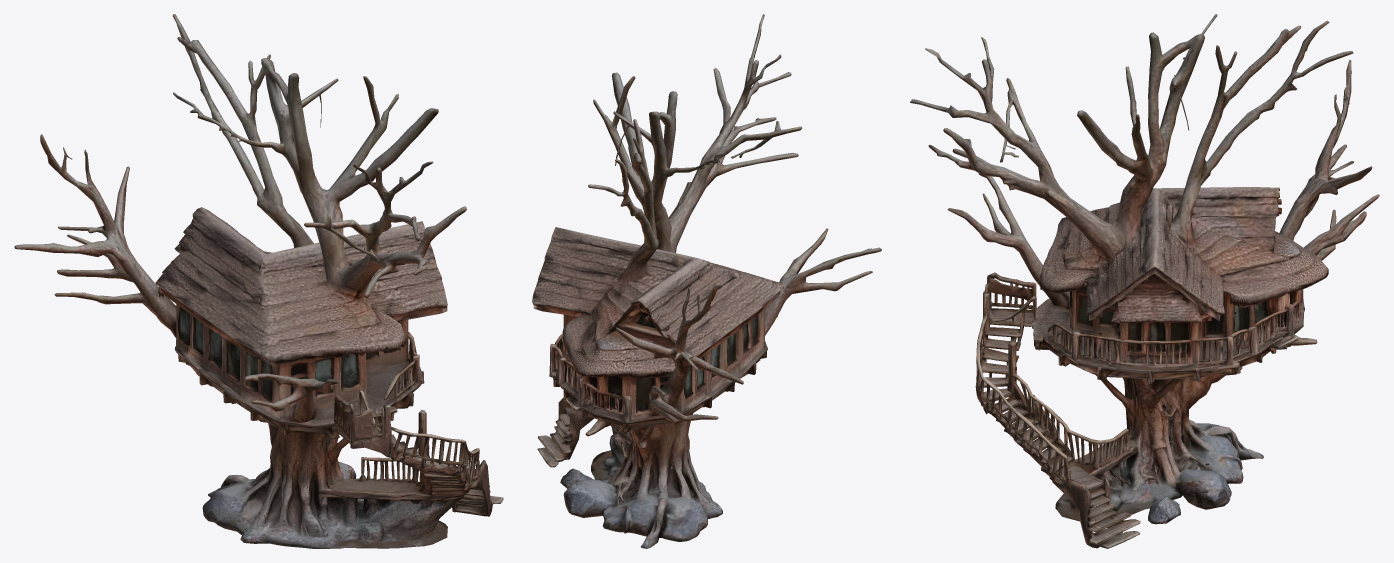
Rendered from treehut.glb.
3 views of the same model, side by side, from view 1: azimuth 30°, elevation 25°; view 2: azimuth 150°, elevation 25°; view 3: azimuth 270°, elevation 25° (orthographic). The views are drawn at different scales.
Parts seen in each view (by area): view 1: Object_4; view 2: Object_4; view 3: Object_4.
Part boxes in pixels (x1=…): Object_4: x1=14, y1=14, x2=503, y2=548; Object_4: x1=532, y1=14, x2=881, y2=548; Object_4: x1=910, y1=14, x2=1379, y2=548.
Bounding box in the file's own units: 0.8162 × 0.9996 × 0.9724.
1 material, 1 textured.
